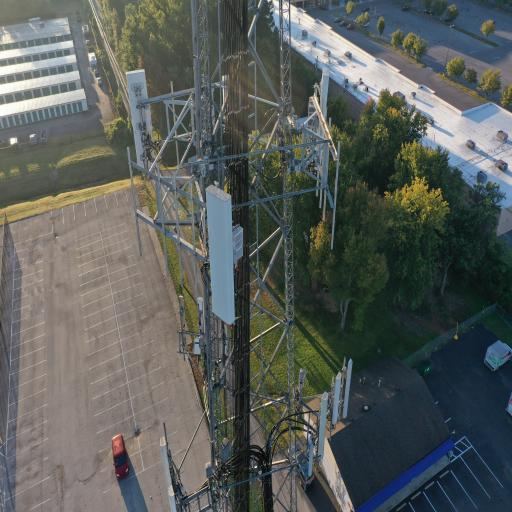supporting_tower: (120, 0, 302, 512)
